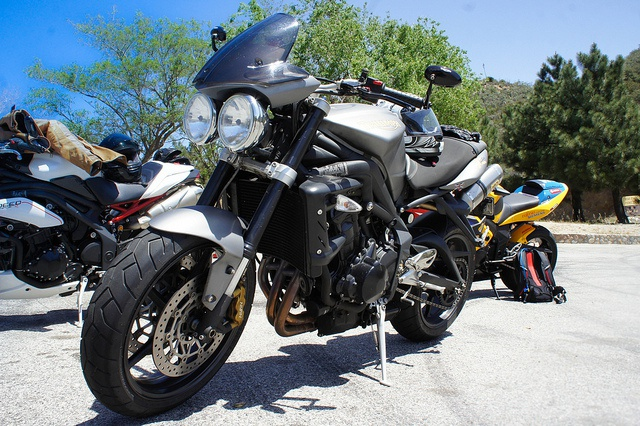non-vehicle: (84, 14, 500, 411), (0, 108, 208, 329), (471, 176, 569, 291)
